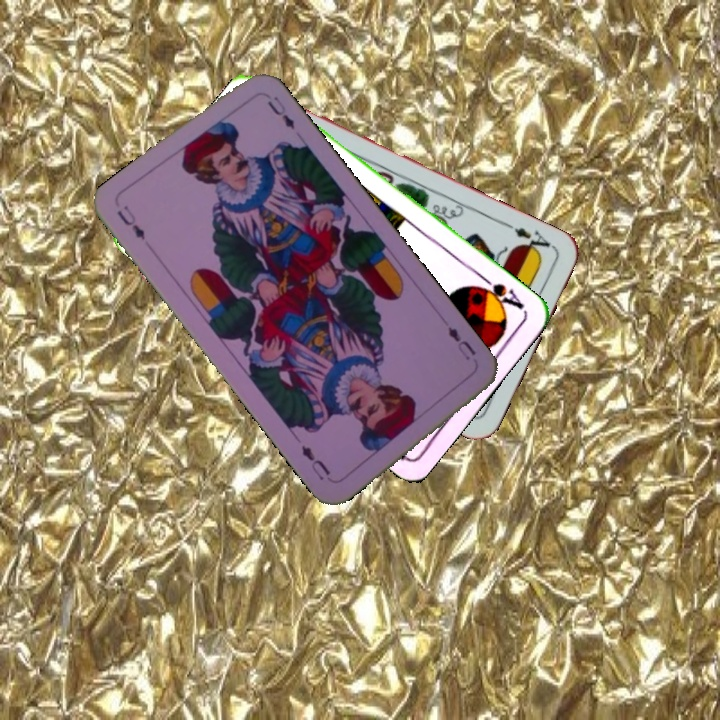EA: (510, 223, 557, 257)
EU: (113, 200, 148, 243), (443, 322, 479, 363)
SA: (471, 272, 527, 313)
